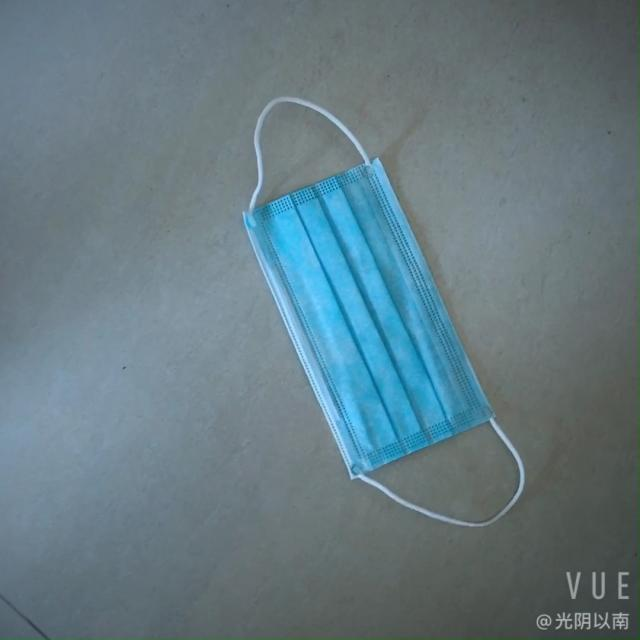face mask: (246, 156, 472, 488)
